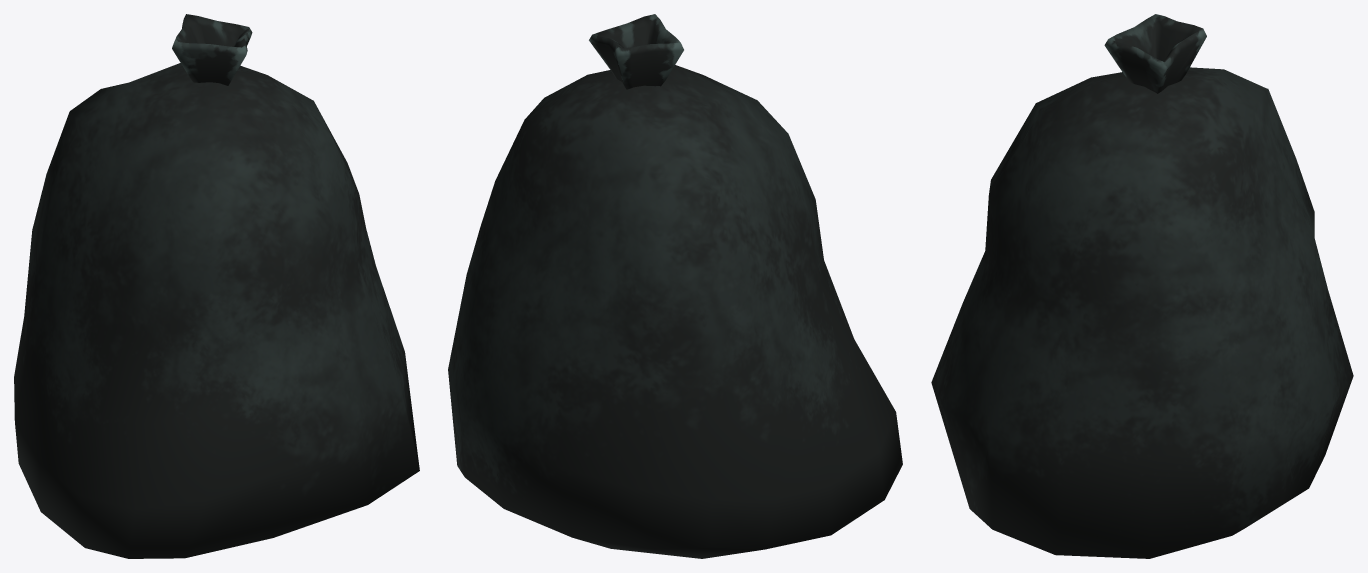
The model's file is SacoLixo.fbx.
3 views of the same model, side by side, from view 1: azimuth 30°, elevation 25°; view 2: azimuth 150°, elevation 25°; view 3: azimuth 270°, elevation 25° (orthographic). The views are drawn at different scales.
Visible parts, largest first — view 1: SacoLixo_low; view 2: SacoLixo_low; view 3: SacoLixo_low.
Boxes of the visible parts, x1=… form: SacoLixo_low: x1=14, y1=14, x2=419, y2=558; SacoLixo_low: x1=448, y1=14, x2=902, y2=558; SacoLixo_low: x1=931, y1=14, x2=1353, y2=558.
Bounding box in the file's own units: 56.28 × 73.83 × 57.75.
